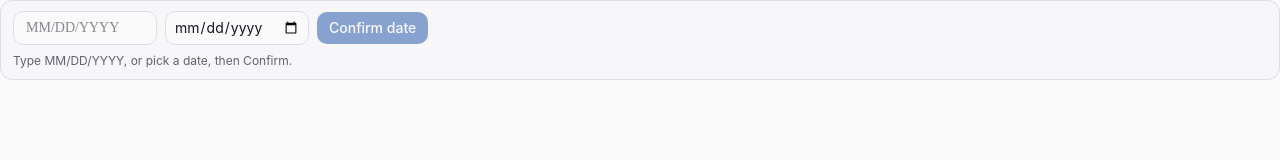
IntakeQuestionWidget date kind › does not submit until a full 4-digit year is entered and confirmed
Later steps or results of the test are not shown.
Note: Typing digits up through a single year digit must NOT fire onAnswer.
Step 1. Type "01121" into the field with placeholder "MM/DD/YYYY" → (85, 28), box x1=13 y1=11 x2=157 y2=45
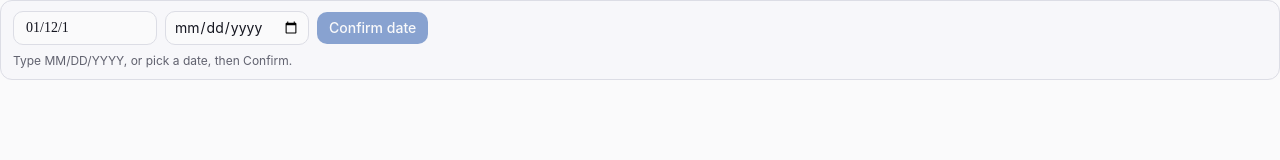
Expected: the button "Confirm date" is disabled, x1=317 y1=12 x2=428 y2=44
Step 2. Replace the text in the field with placeholder "MM/DD/YYYY" with "01121990" → (85, 28), box x1=13 y1=11 x2=157 y2=45
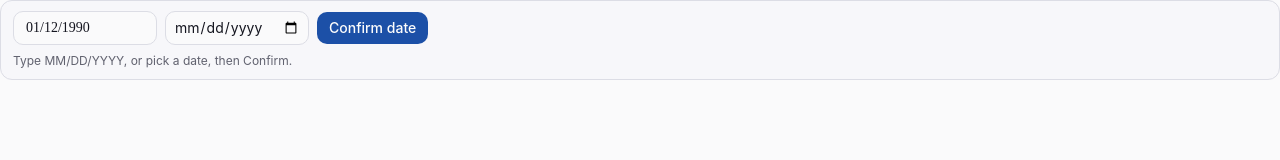
Result: the button "Confirm date" is enabled at x1=317 y1=12 x2=428 y2=44
